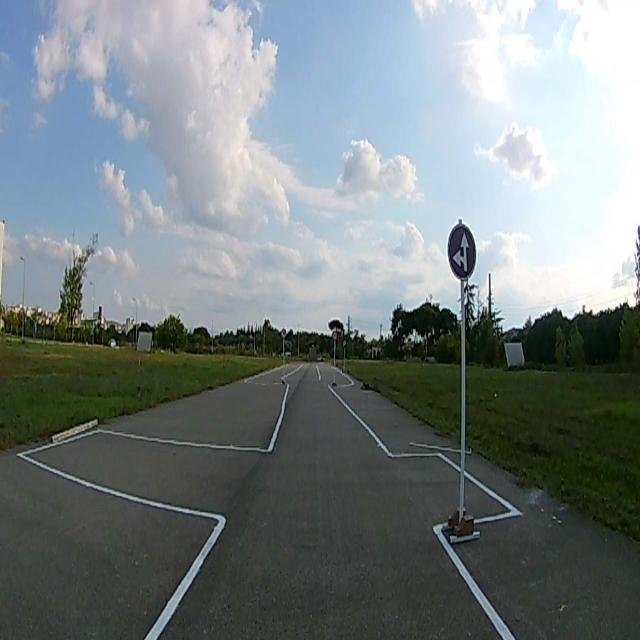ilerisol: (445, 223, 478, 278)
